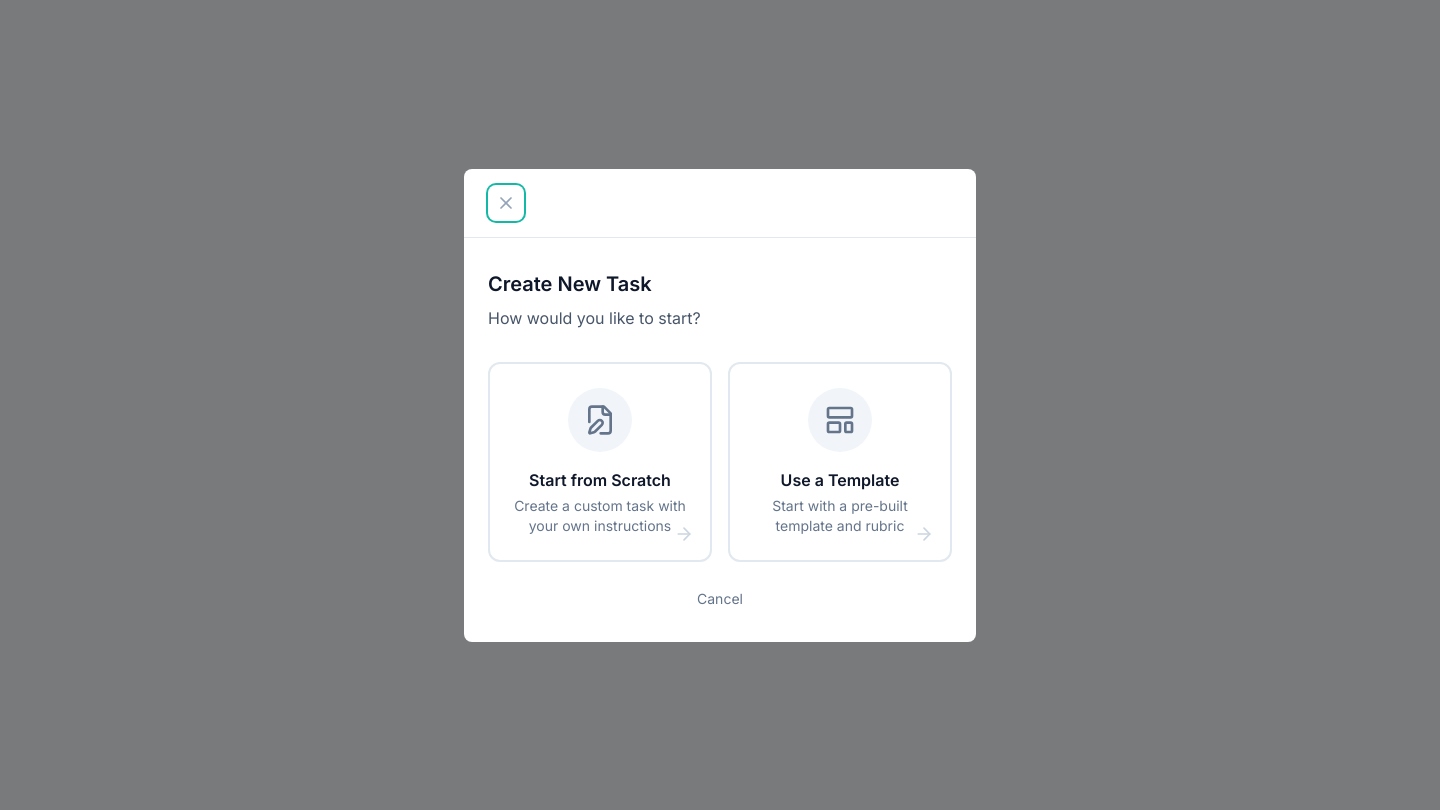
Test: CreateTaskModal Component › Template Selection › navigates to template selection step
What coordinates should you click on to do the following:
click the heading "Use a Template"
I would click on:
 (840, 480)
Its box is [781,468,899,492].
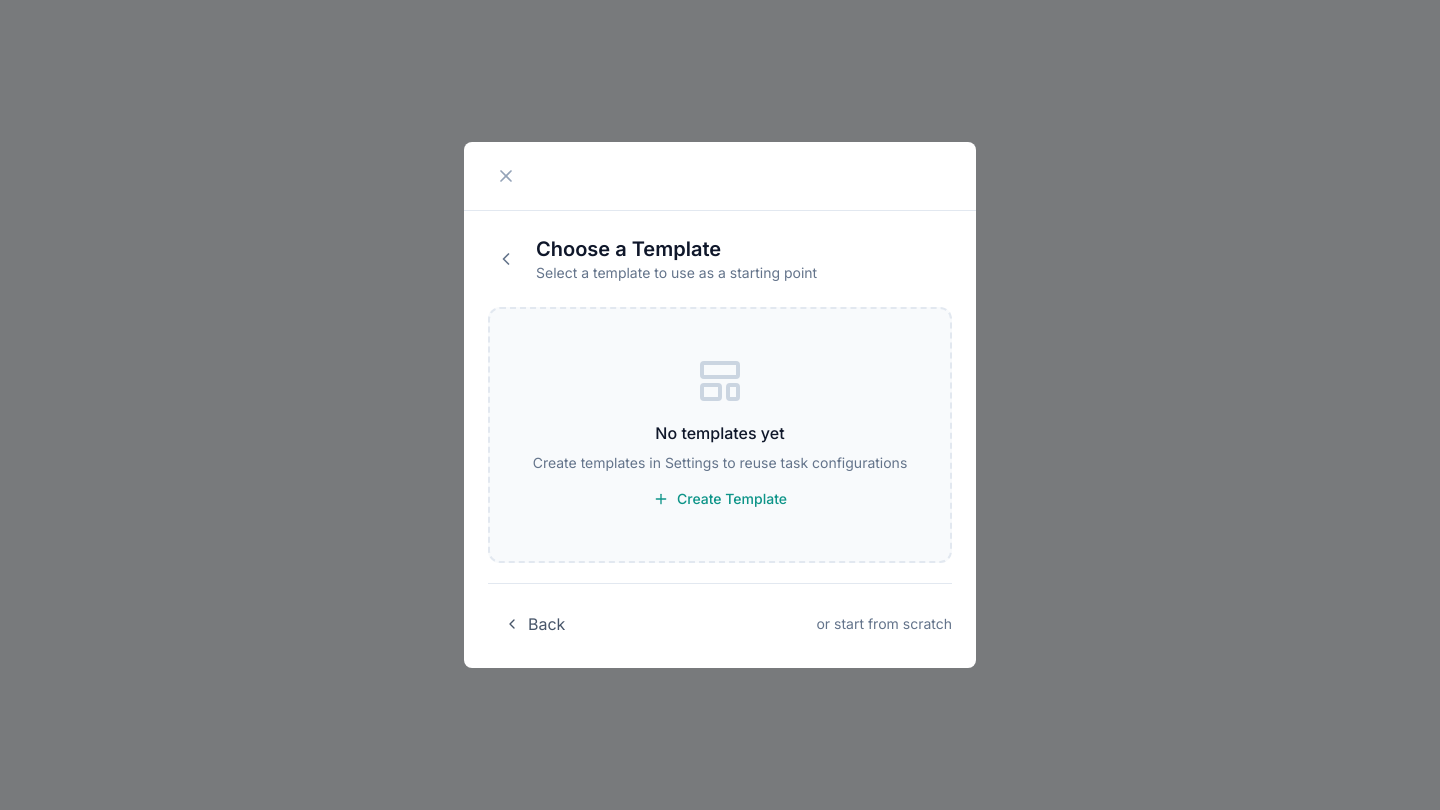
Result: the heading "Choose a Template" is shown at [536,237,721,261]
